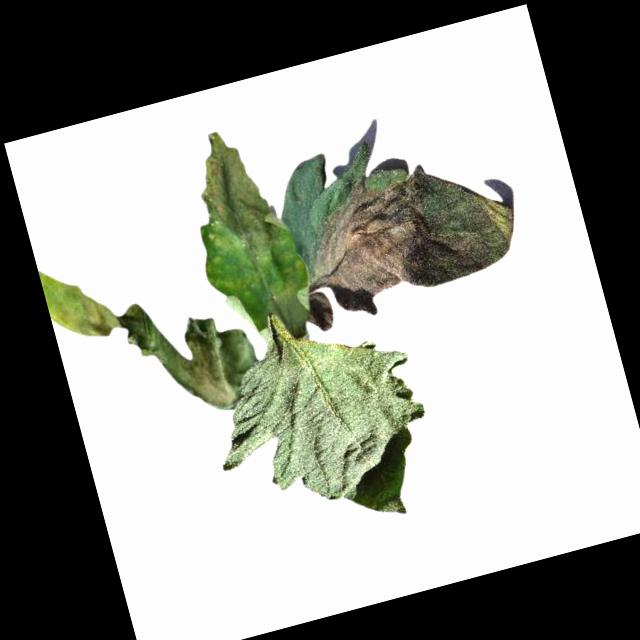Late_blight: (38, 219, 268, 448), (285, 142, 533, 333), (182, 118, 294, 270), (270, 284, 318, 337)
healthy: (189, 282, 449, 556)
